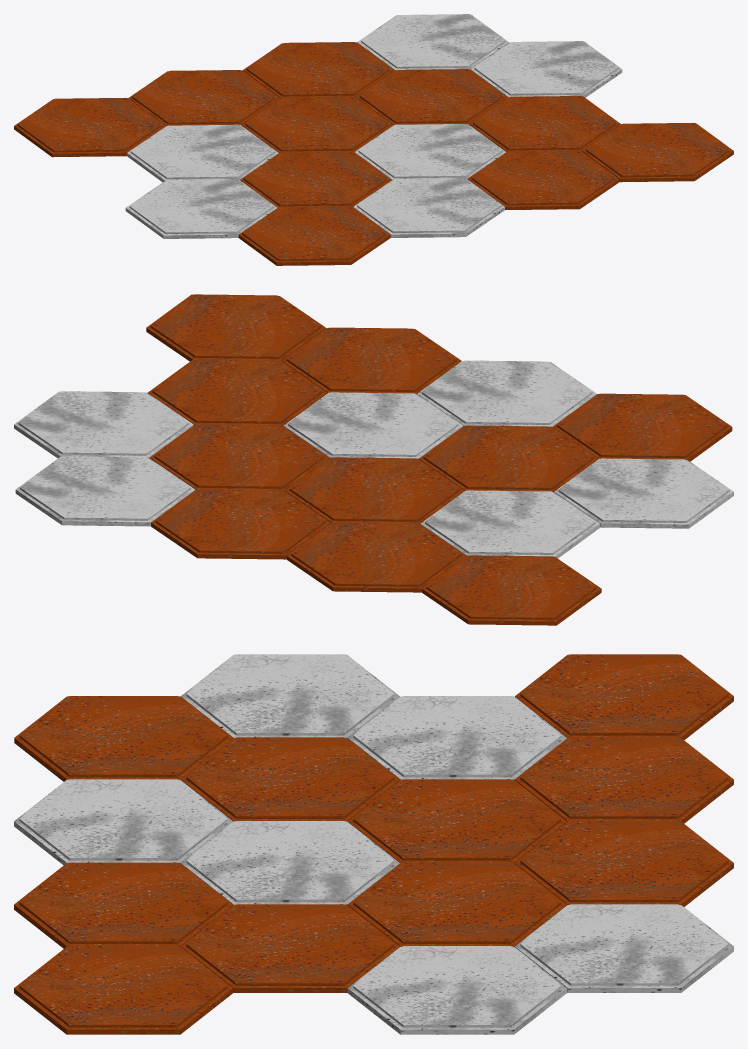
The model's file is HexagonTiles.glb.
3 views of the same model, one above another, from view 1: azimuth 30°, elevation 25°; view 2: azimuth 150°, elevation 25°; view 3: azimuth 270°, elevation 25° (orthographic). The views are drawn at different scales.
Visible parts, largest first — view 1: HexagonalBase.016, HexagonalBase.013, HexagonalBase.014, HexagonalBase.015, HexagonalBase.001, HexagonalBase.012, HexagonalBase.009, HexagonalBase.003, HexagonalBase.008, HexagonalBase.007, HexagonalBase.010, HexagonalBase.005 (+4 smaller); view 2: HexagonalBase.001, HexagonalBase.007, HexagonalBase.008, HexagonalBase.002, HexagonalBase.012, HexagonalBase.009, HexagonalBase.013, HexagonalBase.003, HexagonalBase.016, HexagonalBase.010, HexagonalBase.006, HexagonalBase.005 (+4 smaller); view 3: HexagonalBase.009, HexagonalBase.013, HexagonalBase.008, HexagonalBase.010, HexagonalBase.002, HexagonalBase.015, HexagonalBase.007, HexagonalBase.001, HexagonalBase.014, HexagonalBase.016, HexagonalBase.005, HexagonalBase.006 (+4 smaller).
Part boxes in pixels (left/top/right/bottom): HexagonalBase.016: left=238, top=206, right=390, bottom=265; HexagonalBase.013: left=582, top=122, right=733, bottom=182; HexagonalBase.014: left=353, top=178, right=504, bottom=237; HexagonalBase.015: left=467, top=150, right=619, bottom=209; HexagonalBase.001: left=14, top=97, right=165, bottom=157; HexagonalBase.012: left=125, top=179, right=277, bottom=238; HexagonalBase.009: left=470, top=41, right=622, bottom=97; HexagonalBase.003: left=127, top=124, right=278, bottom=182; HexagonalBase.008: left=357, top=14, right=508, bottom=70; HexagonalBase.007: left=242, top=42, right=394, bottom=98; HexagonalBase.010: left=469, top=96, right=620, bottom=151; HexagonalBase.005: left=355, top=69, right=507, bottom=124; HexagonalBase.001: left=422, top=555, right=601, bottom=625; HexagonalBase.007: left=151, top=489, right=330, bottom=559; HexagonalBase.008: left=15, top=456, right=195, bottom=526; HexagonalBase.002: left=286, top=522, right=466, bottom=592; HexagonalBase.012: left=554, top=458, right=733, bottom=528; HexagonalBase.009: left=14, top=391, right=193, bottom=458; HexagonalBase.013: left=146, top=294, right=325, bottom=361; HexagonalBase.003: left=420, top=490, right=599, bottom=558; HexagonalBase.016: left=553, top=393, right=732, bottom=461; HexagonalBase.010: left=148, top=359, right=327, bottom=425; HexagonalBase.006: left=285, top=457, right=464, bottom=523; HexagonalBase.005: left=150, top=424, right=329, bottom=490; HexagonalBase.009: left=347, top=946, right=566, bottom=1034; HexagonalBase.013: left=14, top=946, right=232, bottom=1034; HexagonalBase.008: left=515, top=904, right=733, bottom=992; HexagonalBase.010: left=180, top=904, right=399, bottom=992; HexagonalBase.002: left=515, top=737, right=733, bottom=823; HexagonalBase.015: left=14, top=862, right=232, bottom=948; HexagonalBase.007: left=515, top=821, right=733, bottom=906; HexagonalBase.001: left=515, top=654, right=733, bottom=740; HexagonalBase.014: left=14, top=779, right=232, bottom=865; HexagonalBase.016: left=14, top=696, right=232, bottom=781; HexagonalBase.005: left=347, top=862, right=566, bottom=946; HexagonalBase.006: left=347, top=779, right=566, bottom=863.
Size of the model in its own units: 3.13 by 0.03 by 2.54.
Materials: 2 (2 with a texture image).
